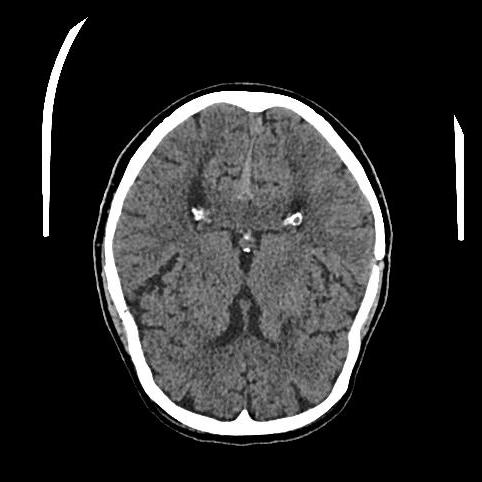Normal_Brain: (75, 79, 402, 452)
